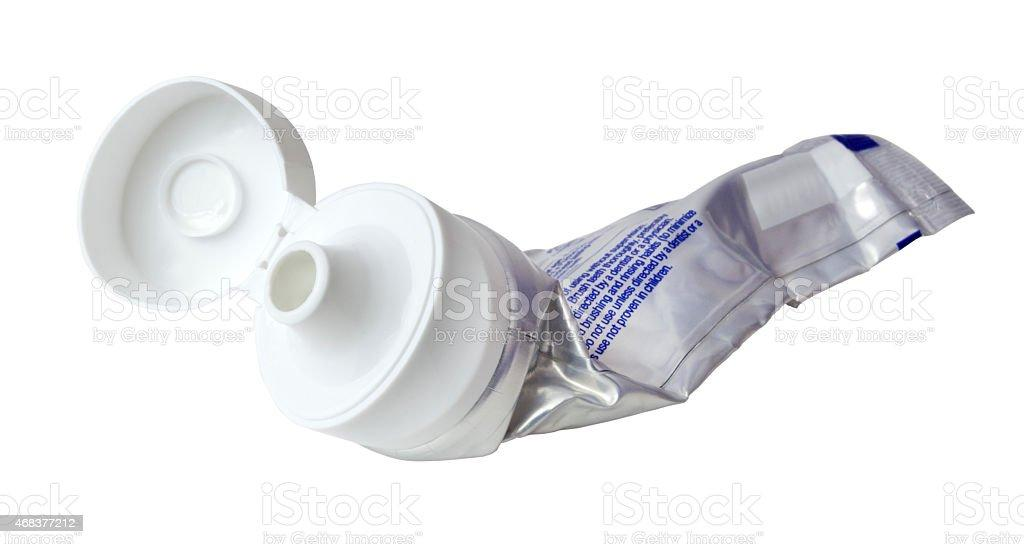toothpaste: (98, 74, 995, 434)
